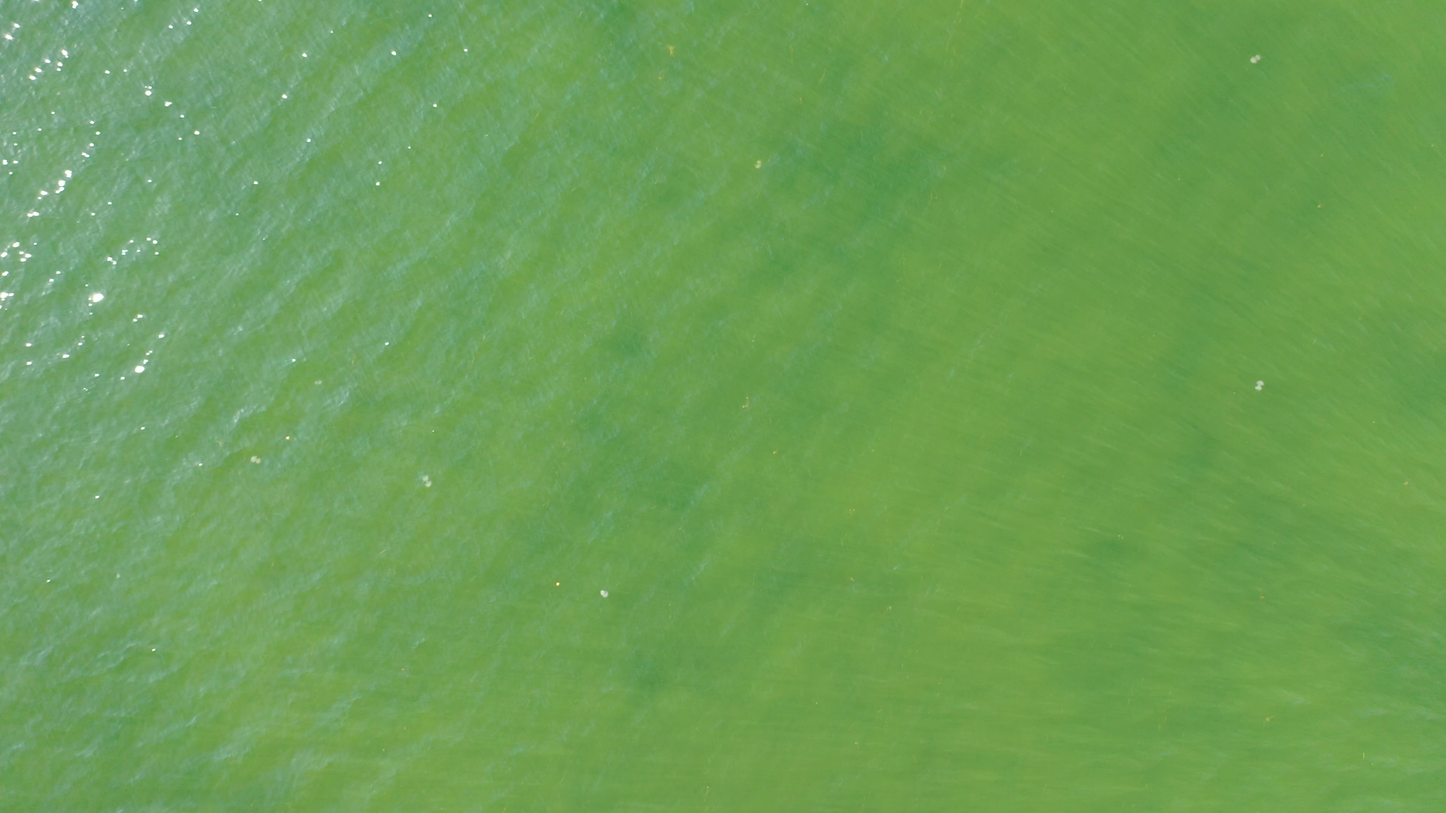meduse: (423, 475, 431, 488), (1255, 381, 1264, 391), (1251, 55, 1260, 64), (251, 456, 261, 464), (600, 590, 608, 598), (755, 160, 762, 169)
